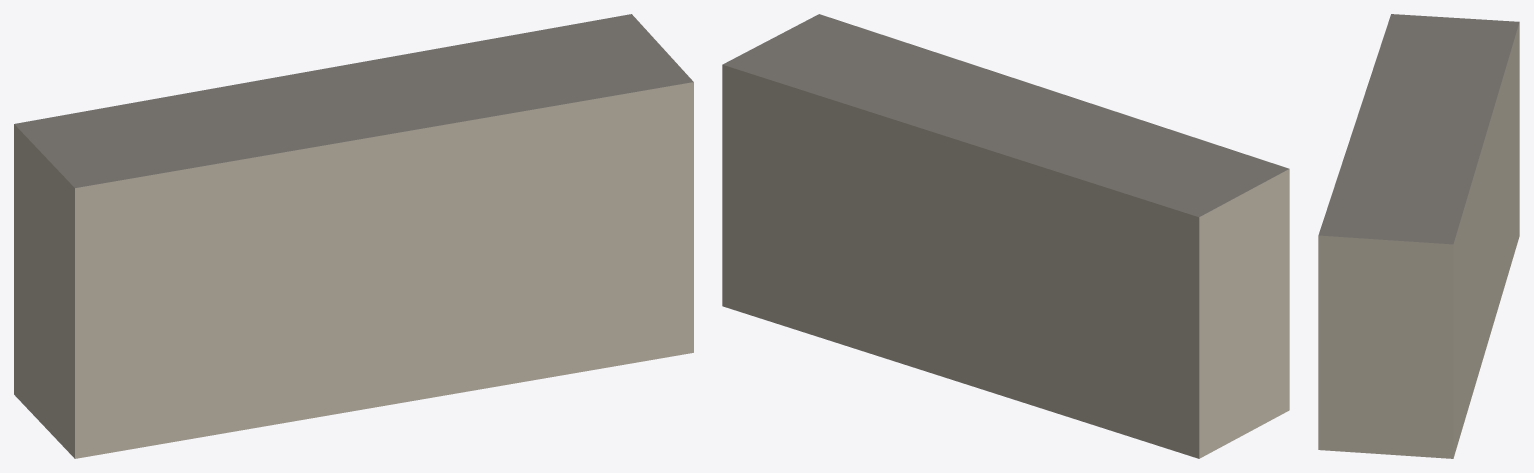
The picture shows the model from 3 angles, left to right: view 1: azimuth 30°, elevation 25°; view 2: azimuth 150°, elevation 25°; view 3: azimuth 270°, elevation 25°; orthographic projection. The views are drawn at different scales.
Parts seen in each view (by area): view 1: HP-w505643561; view 2: HP-w505643561; view 3: HP-w505643561.
Boxes of the visible parts, <box> form: HP-w505643561: <box>14,14,693,458</box>; HP-w505643561: <box>722,14,1289,458</box>; HP-w505643561: <box>1318,14,1519,458</box>.
Bounding box in the file's own units: 34.56 × 15 × 12.75.
